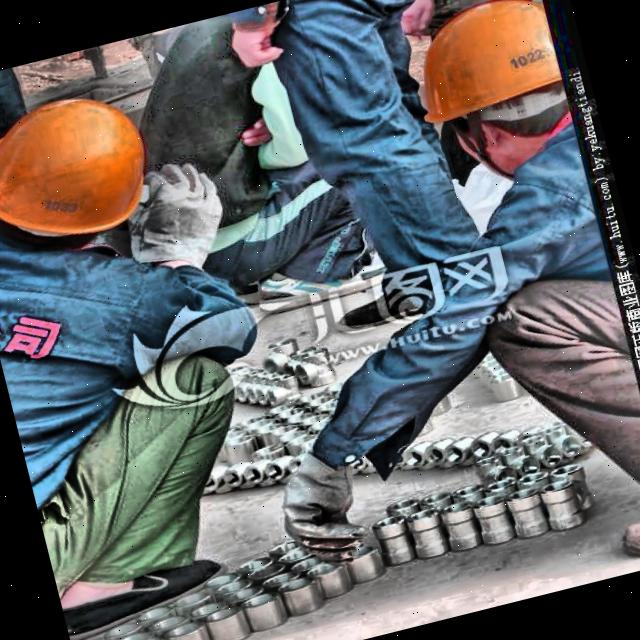helmet: (399, 0, 581, 197), (0, 74, 172, 276)
